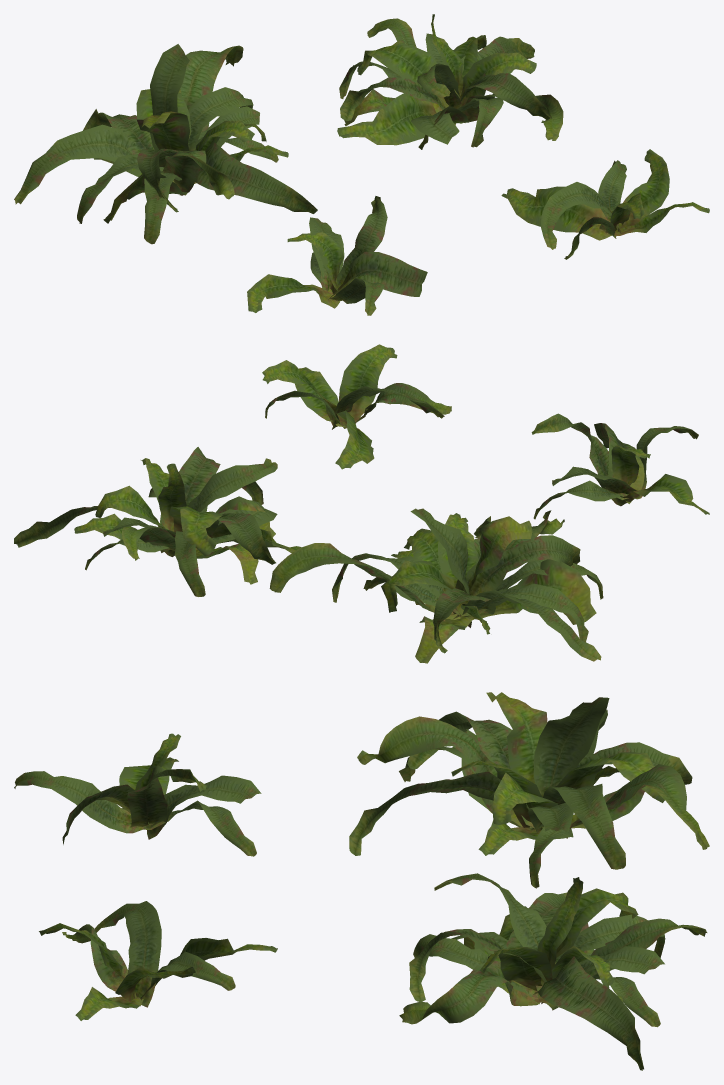
Rendered from resized.glb.
3 views of the same model, one above another, from view 1: azimuth 30°, elevation 25°; view 2: azimuth 150°, elevation 25°; view 3: azimuth 270°, elevation 25° (orthographic). The views are drawn at different scales.
Visible parts, largest first — view 1: fern_02_b, fern_02_c, fern_02_d, fern_02_a; view 2: fern_02_b, fern_02_c, fern_02_d, fern_02_a; view 3: fern_02_b, fern_02_c, fern_02_a, fern_02_d.
Part boxes in pixels (x1=…): fern_02_b: x1=14, y1=44, x2=317, y2=244; fern_02_c: x1=337, y1=14, x2=563, y2=149; fern_02_d: x1=501, y1=149, x2=709, y2=259; fern_02_a: x1=247, y1=196, x2=427, y2=315; fern_02_b: x1=269, y1=508, x2=603, y2=663; fern_02_c: x1=14, y1=447, x2=301, y2=596; fern_02_d: x1=262, y1=344, x2=451, y2=469; fern_02_a: x1=531, y1=413, x2=709, y2=519; fern_02_b: x1=349, y1=692, x2=709, y2=888; fern_02_c: x1=399, y1=873, x2=707, y2=1070; fern_02_a: x1=14, y1=733, x2=261, y2=856; fern_02_d: x1=39, y1=901, x2=277, y2=1020.
Size of the model in its own units: 1.97 by 0.4277 by 1.72.
Materials: 1 (1 with a texture image).
